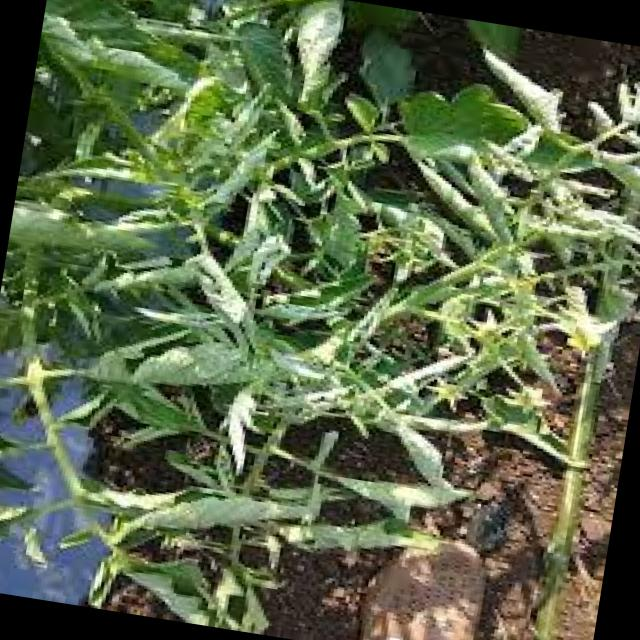Chilli_Leaf_Curl: (0, 0, 640, 640), (386, 68, 533, 175)
